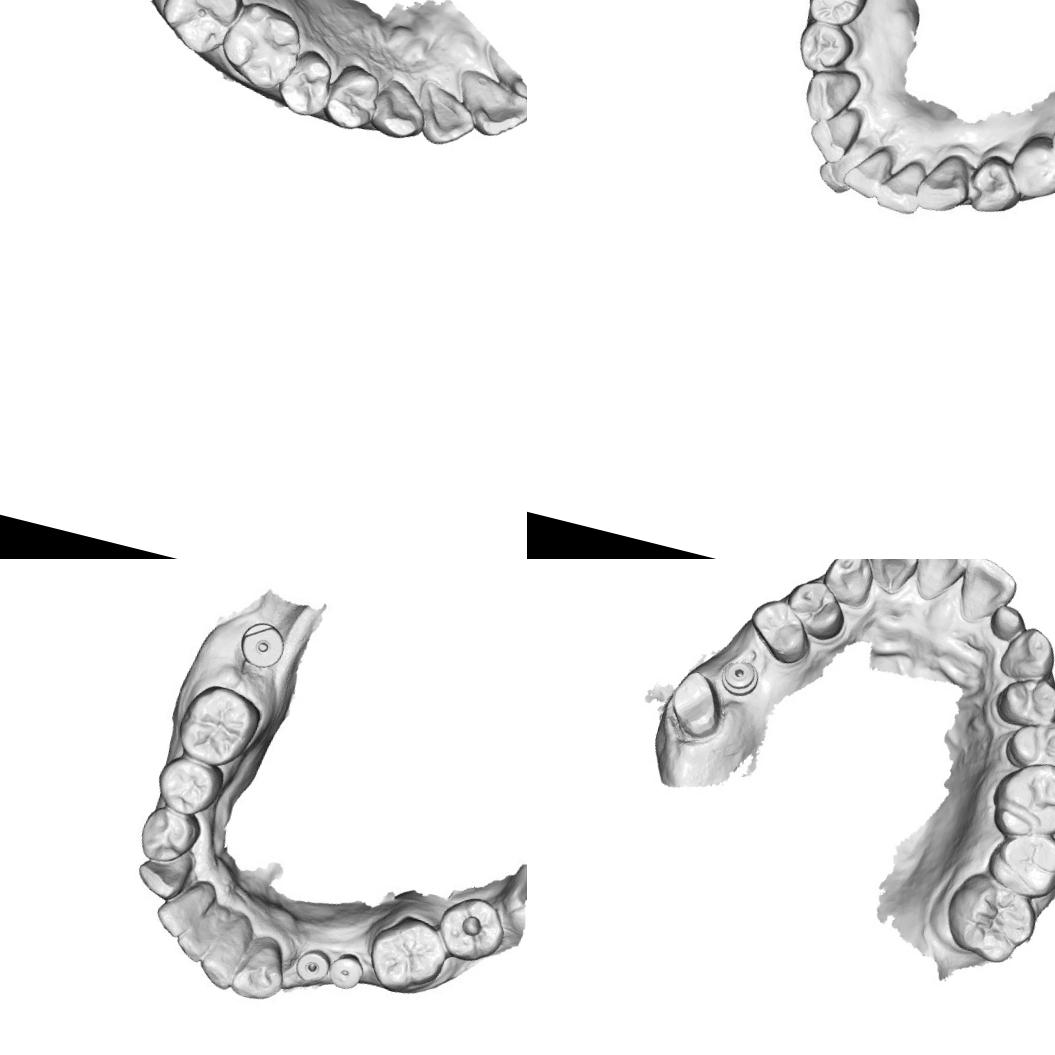canine: (368, 72, 431, 144), (800, 63, 864, 129), (228, 938, 287, 1008), (995, 619, 1055, 687), (915, 146, 976, 212), (130, 848, 196, 905), (817, 559, 880, 611)
crown: (661, 666, 734, 749)
implant: (234, 615, 288, 674), (715, 654, 764, 700), (292, 943, 336, 989), (326, 949, 368, 994)
incisor: (455, 66, 527, 145), (416, 78, 484, 154), (951, 559, 1022, 631), (146, 876, 211, 946), (196, 918, 255, 995), (170, 894, 228, 968), (810, 134, 872, 200), (903, 559, 973, 608), (878, 159, 929, 218), (848, 142, 896, 203), (810, 103, 861, 155), (860, 559, 921, 599), (985, 600, 1029, 646)
molar: (936, 866, 1046, 971), (169, 675, 266, 774), (214, 0, 310, 97), (360, 906, 454, 1004), (982, 751, 1055, 849), (429, 889, 512, 968), (980, 821, 1055, 904), (150, 0, 248, 60)
premolar: (739, 592, 820, 670), (776, 572, 854, 645), (151, 751, 225, 821), (132, 800, 206, 870), (277, 46, 340, 123), (320, 58, 382, 134), (990, 669, 1055, 736), (1000, 709, 1055, 779), (792, 12, 854, 74), (968, 155, 1026, 217), (1010, 139, 1055, 196), (806, 0, 861, 23)
